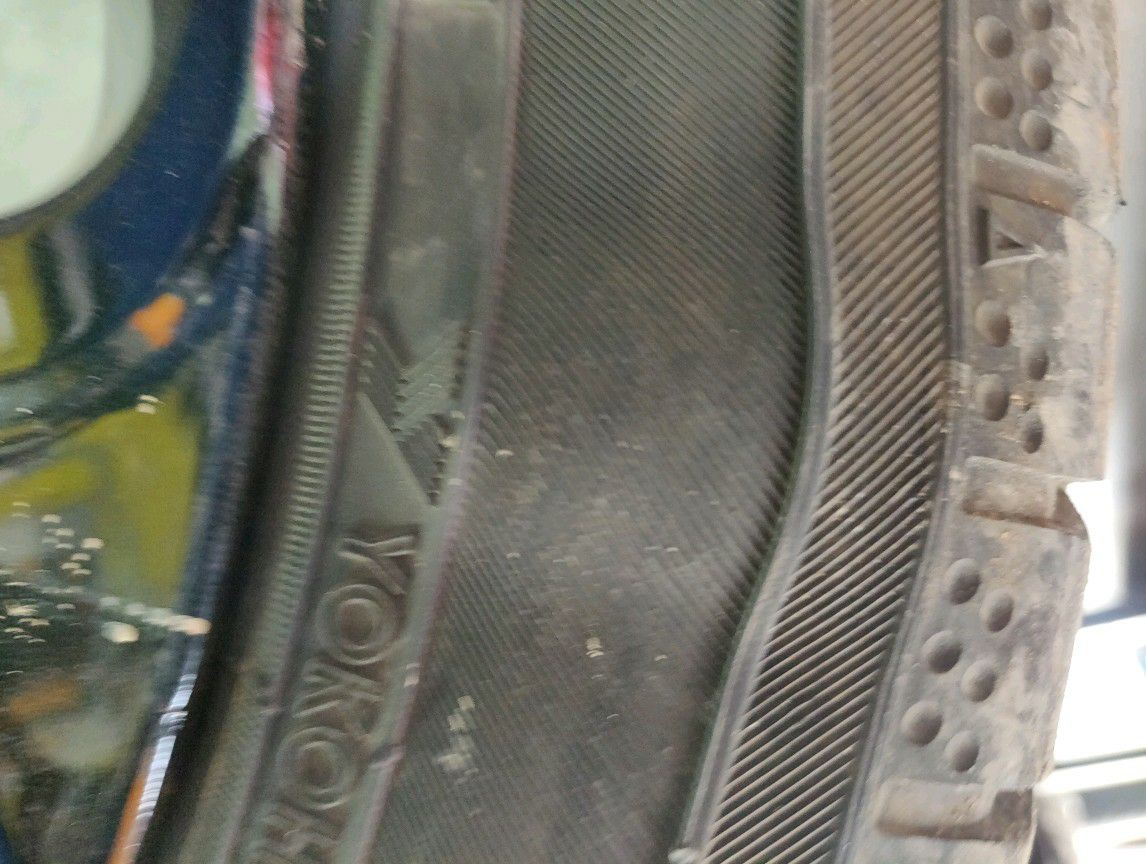CBU: (417, 262, 874, 600)
